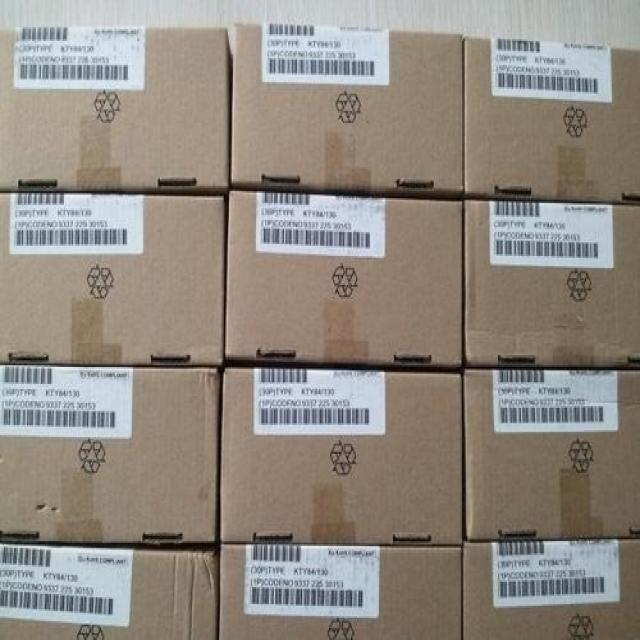box: (223, 188, 463, 370), (220, 367, 462, 544), (229, 22, 463, 200), (0, 365, 223, 544), (0, 193, 227, 367), (0, 27, 230, 191), (463, 369, 640, 541), (463, 200, 640, 369), (465, 38, 640, 205), (219, 543, 462, 640), (0, 544, 220, 640), (463, 539, 640, 640)
